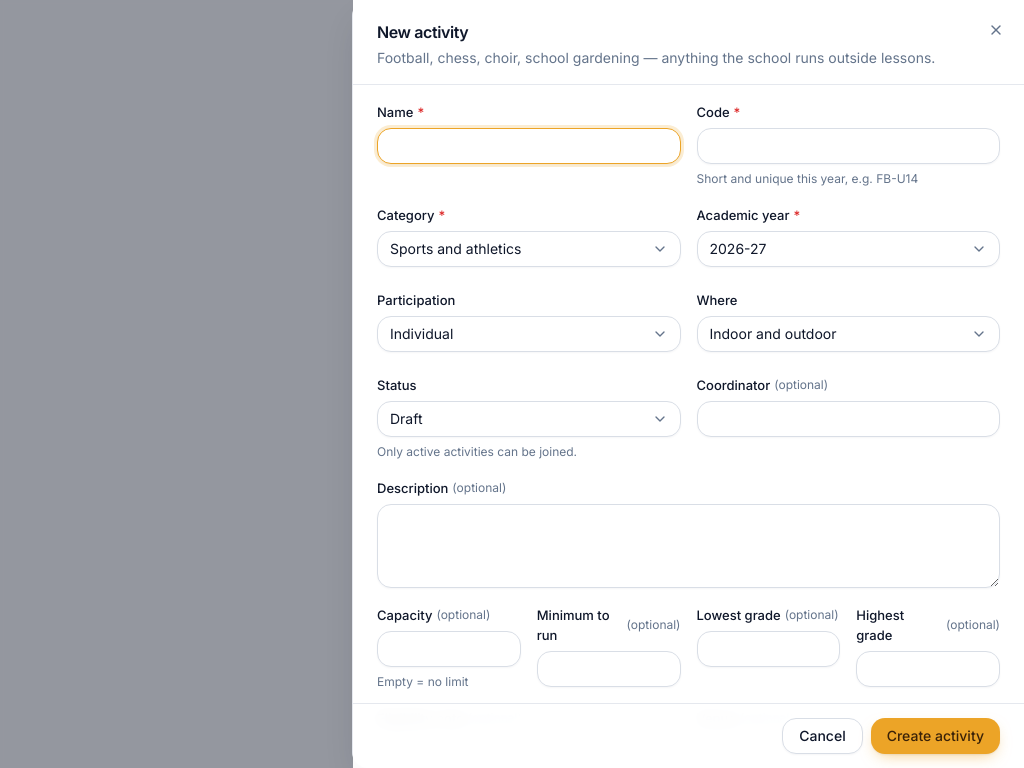
it: ActivityFormDialog › asks for the required fields before submitting
This screenshot has width=1024, height=768.
Click the button "Create activity": (935, 736) [871,718,1000,754]
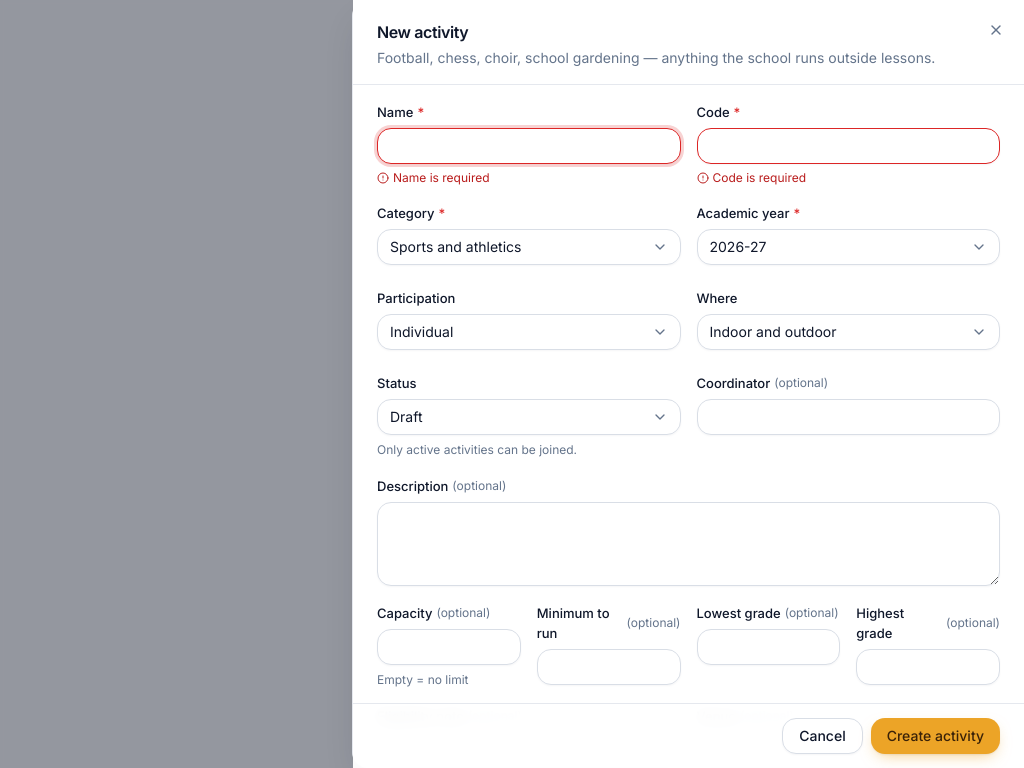
Result: the text "Name is required" is shown at [377,170,490,185]
Result: the text "Code is required" is shown at [696,170,806,185]
